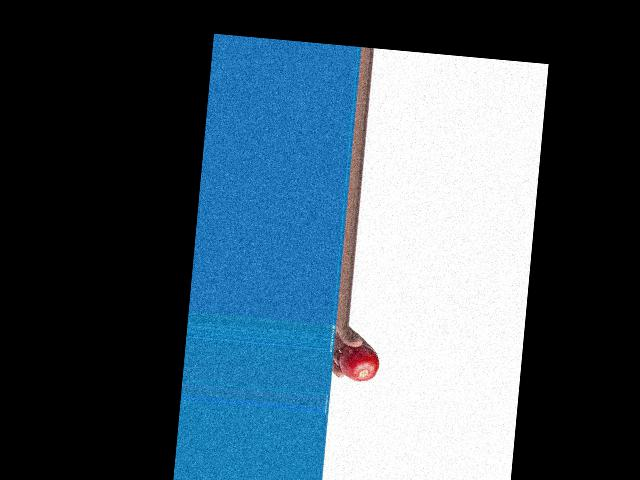tomato: (337, 342, 380, 383)
